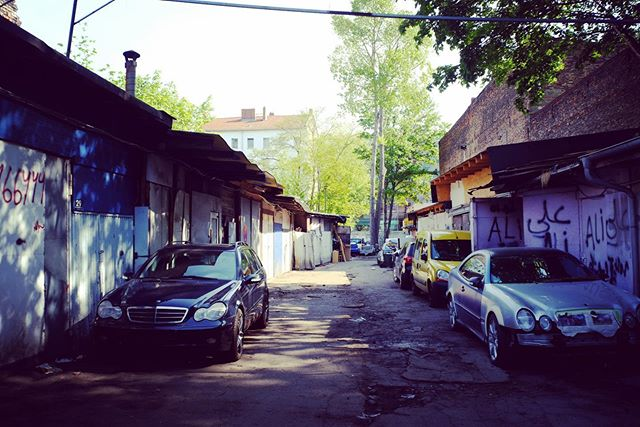building: (442, 42, 640, 339), (1, 43, 149, 360), (161, 138, 349, 269), (206, 104, 318, 188)
car: (89, 244, 270, 364), (454, 251, 637, 363), (406, 234, 478, 295)
graffiti: (492, 198, 640, 267)
sky: (159, 1, 326, 100)
tree: (331, 1, 430, 204)
